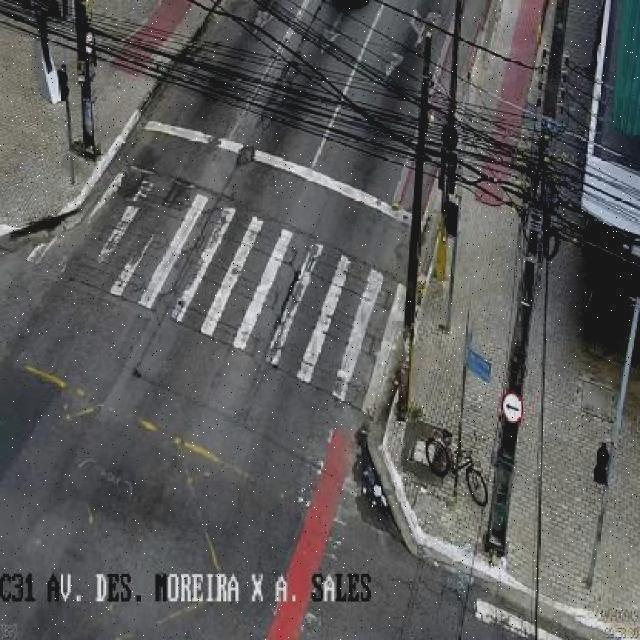Cycle: (407, 379, 492, 503)
